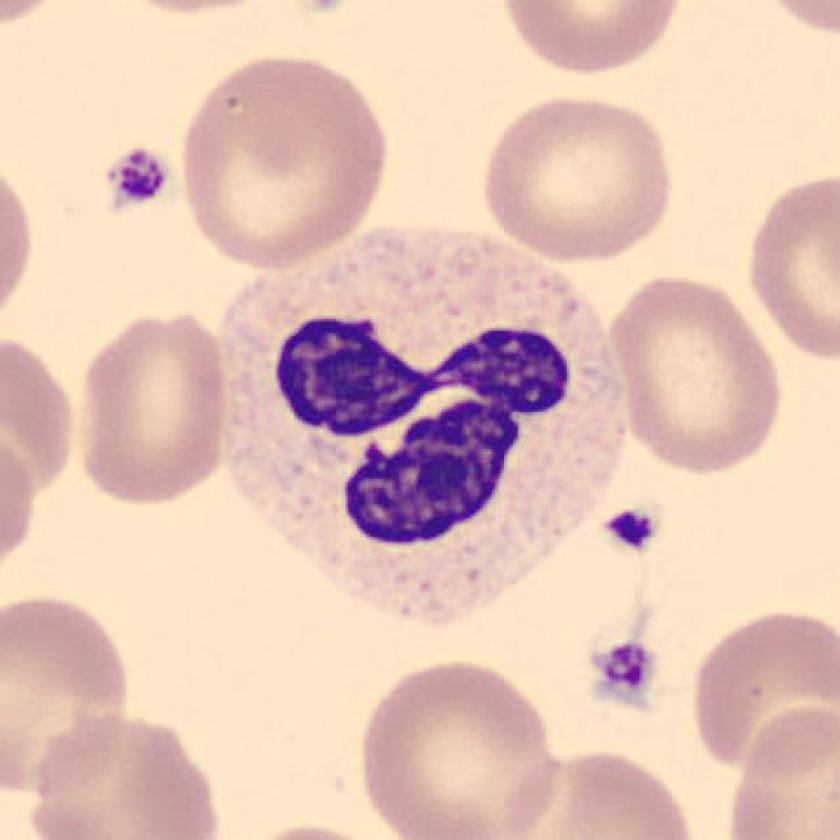neutrophil: (219, 225, 624, 626)
